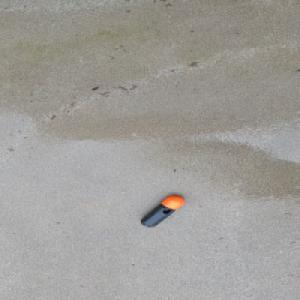PlasticPart: (138, 195, 185, 227)
